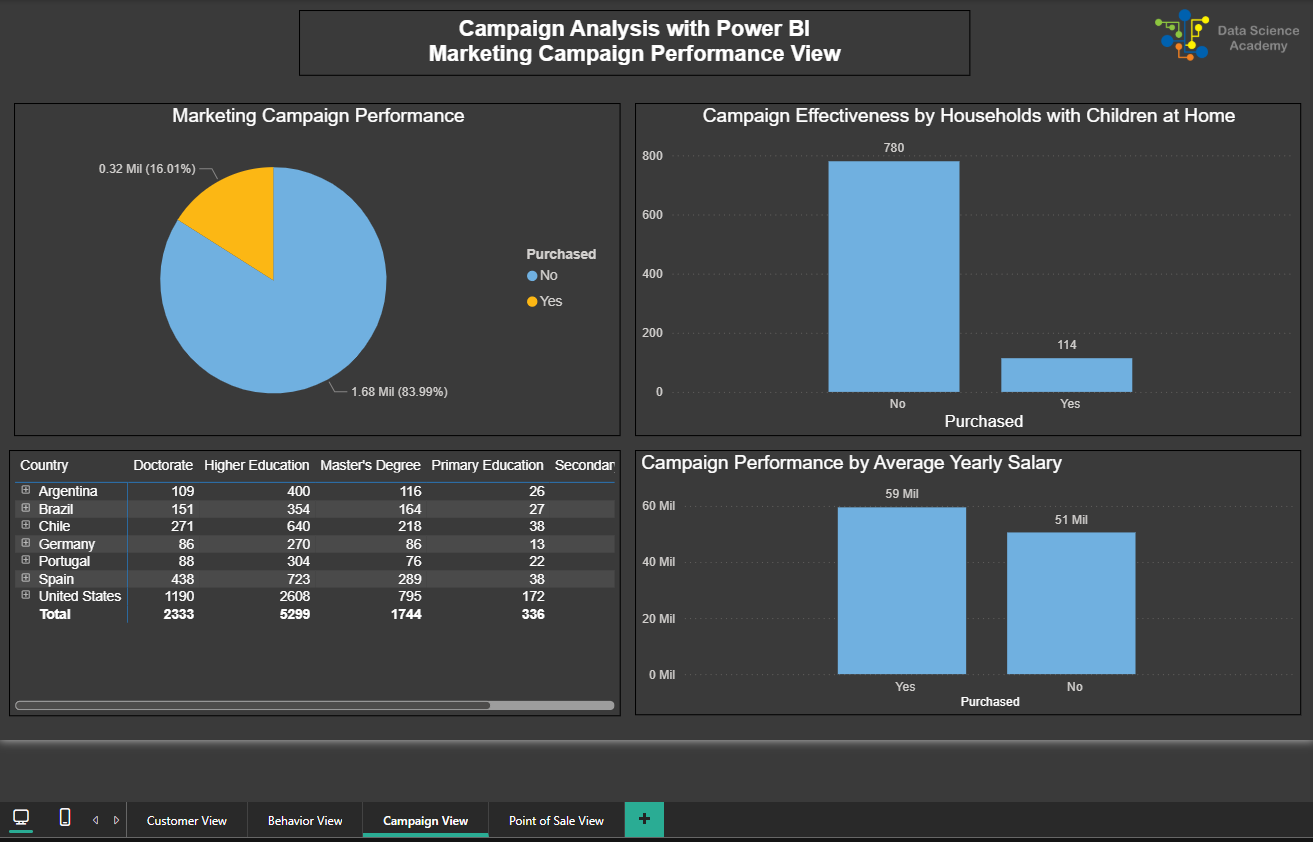

Layout of this report page (visuals, bound fields, positions):
{"tool":"powerbi","page":{"name":"Campaign View","canvas":[1280,720],"ordinal":2},"visuals":[{"type":"pieChart","title":"Marketing Campaign Performance","fields":{"Category":["Projeto 1.Purchased"],"Y":["CountNonNull(Projeto 1.ID)"]},"box":[14.6,100.2,590.4,323.9],"z":0},{"type":"textbox","box":[291.8,9.7,652.6,64.2],"z":1000},{"type":"clusteredColumnChart","title":"Campaign Performance by Average Yearly Salary","fields":{"Category":["Projeto 1.Purchased"],"Y":["Avg(Projeto 1. Annual Salary)"]},"box":[619,438,648,258],"z":2000},{"type":"pivotTable","fields":{"Columns":["Projeto 1.Education Level"],"Rows":["Projeto 1.Country","Projeto 1.Purchased","Projeto 1. Marital Status"],"Values":["Sum(Projeto 1. Monthly Website Visits)"]},"box":[9.7,437.7,595.3,258.7],"z":3000},{"type":"clusteredColumnChart","title":"Campaign Effectiveness by Households with Children at Home","fields":{"Category":["Projeto 1.Purchased"],"Y":["Sum(Projeto 1. Children at Home)"]},"box":[619,100,648,324],"z":4000},{"type":"image","box":[1119.5,0,149.8,67.1],"z":5000}]}

Visuals, with their boxes on the page's 1280x720 design canvas (x1, y1, x2, y2). These are canvas units, not pixel positions in the 1313x842 screenshot, which may show the page scaled, cropped or inside an application window:
"Marketing Campaign Performance" pieChart: (15, 100, 605, 424)
textbox: (292, 10, 944, 74)
"Campaign Performance by Average Yearly Salary" clusteredColumnChart: (619, 438, 1267, 696)
pivotTable - Projeto 1.Education Level x Projeto 1.Country: (10, 438, 605, 696)
"Campaign Effectiveness by Households with Children at Home" clusteredColumnChart: (619, 100, 1267, 424)
image: (1120, 0, 1269, 67)
